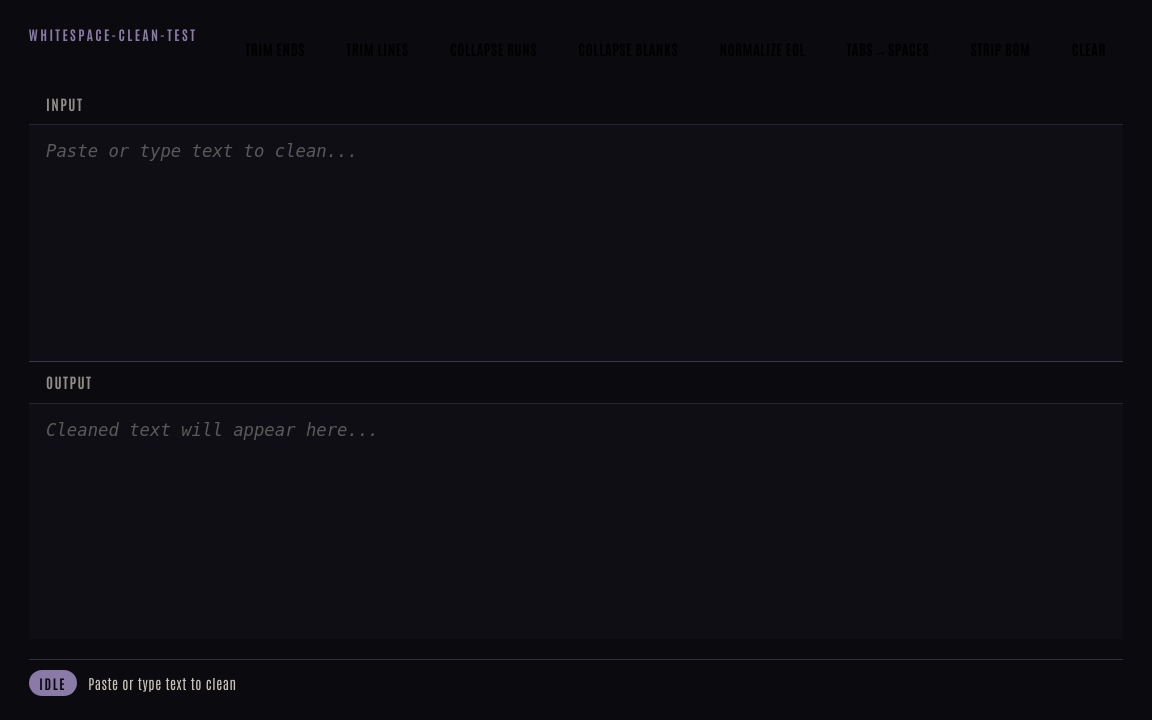
WhitespaceClean › shows "No changes" when no rules modify the input
Type "hello" into the text box named "Text input for whitespace cleaning".
click(576, 243); type("hello")  # box [29, 125, 1123, 361]
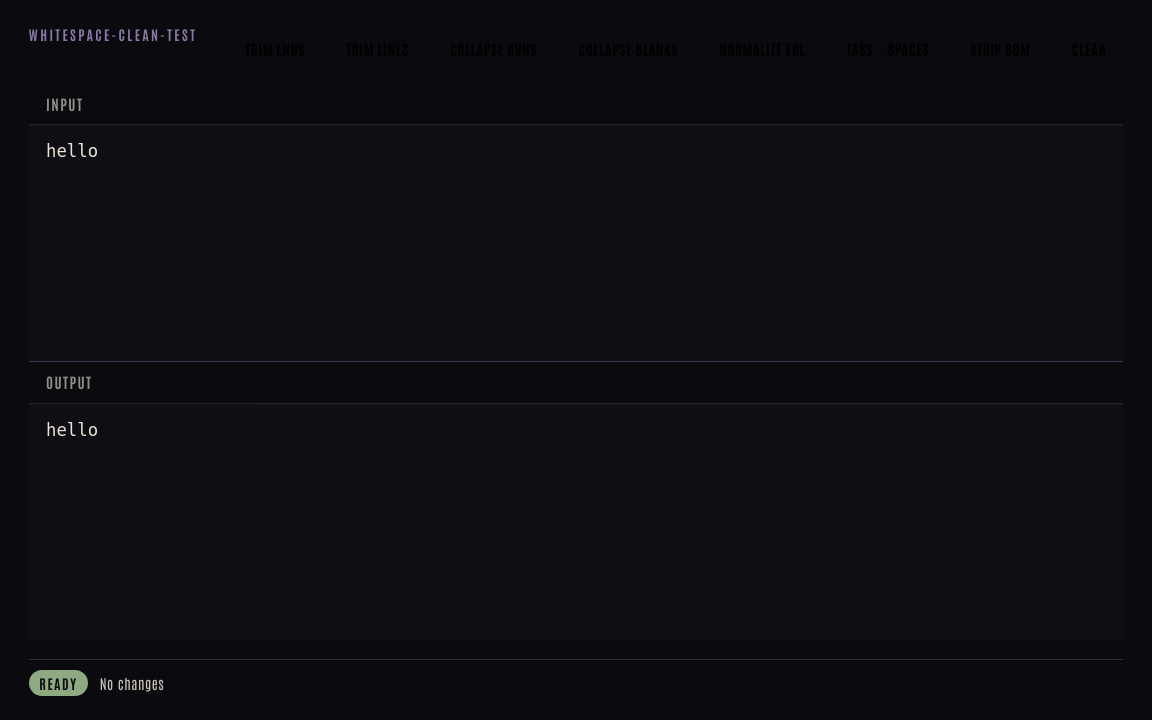
Expected: the text "No changes" is shown, [100, 673, 164, 693]
